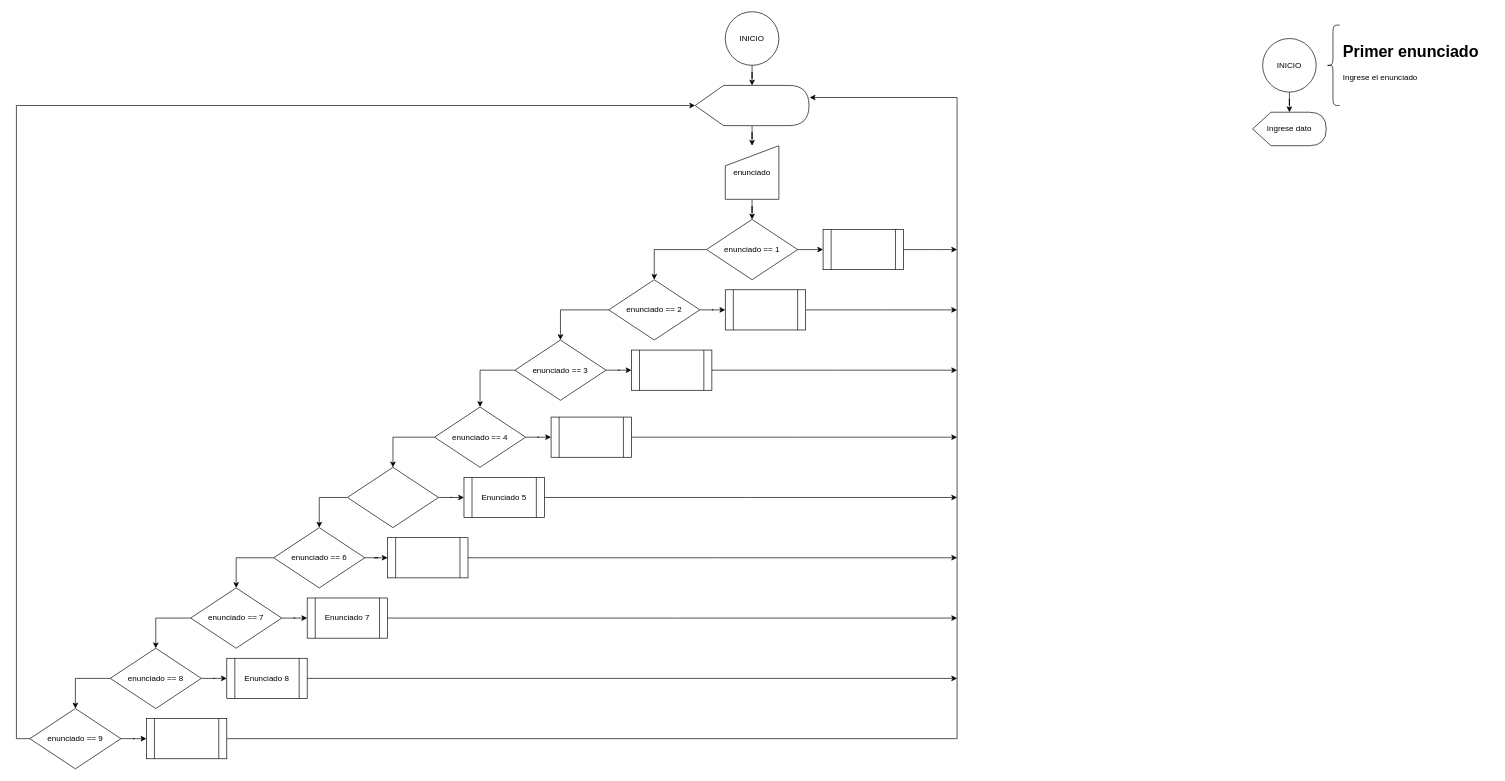
The diagram is 1505 pixels wide and 781 high, and some of its shapes have lost their labels. The shapes that lost their labels are listed below. From the top down, each one's centre as x and y in pixels, then its label:
[751,105]: Ingrese el número de enunciado
[862,249]: Enunciado 1
[765,309]: Enunciado 2
[671,369]: Enunciado 3
[590,436]: Enunciado 4
[393,497]: enunciado == 5
[427,557]: Enunciado 6
[186,738]: Enunciado 9
